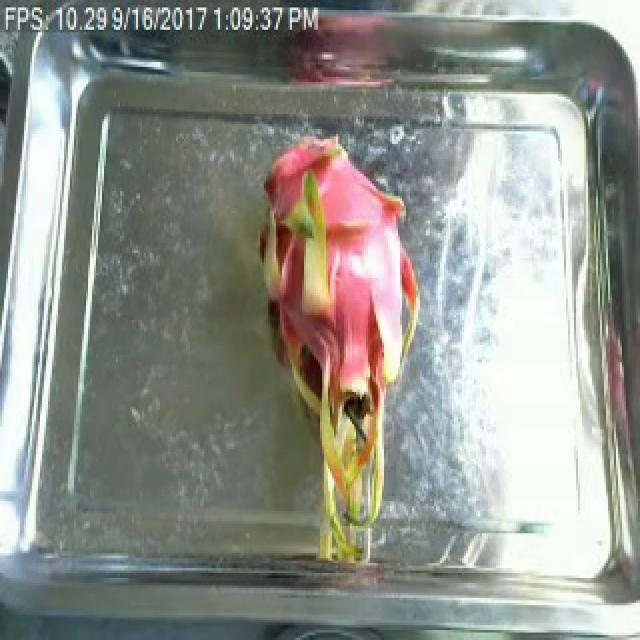fruit: (250, 136, 426, 573)
